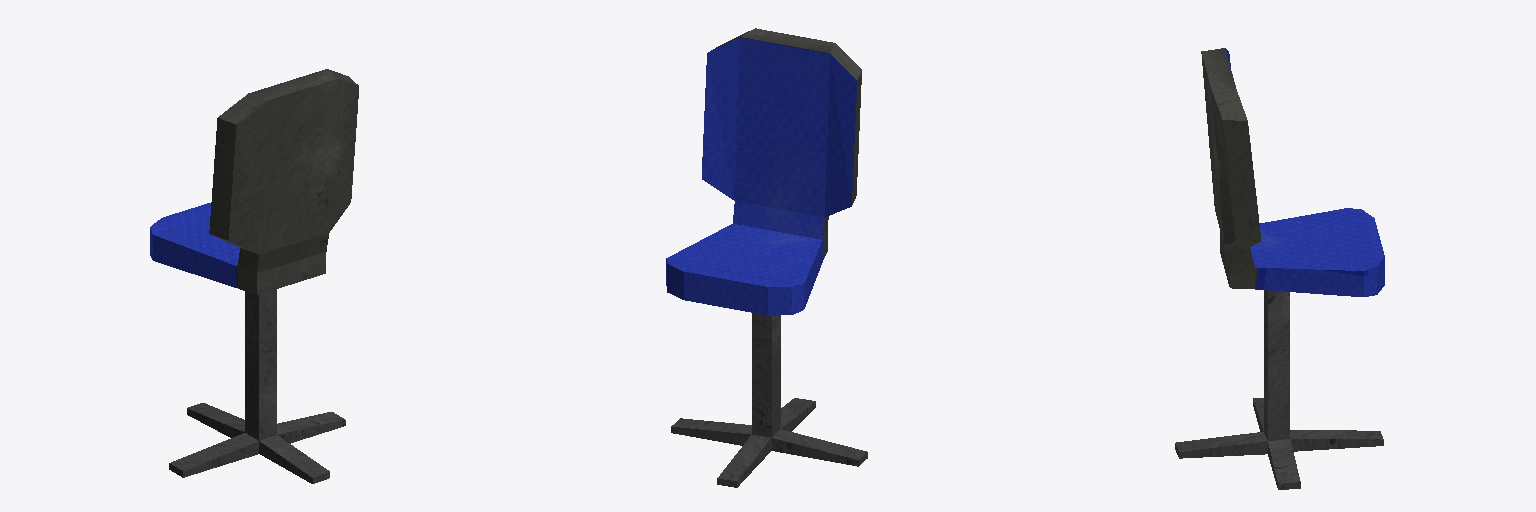
3 views of the same model, side by side, from view 1: azimuth 30°, elevation 25°; view 2: azimuth 150°, elevation 25°; view 3: azimuth 270°, elevation 25° (orthographic).
Visible parts, largest first — view 1: silla:polySurface9; view 2: silla:polySurface9; view 3: silla:polySurface9.
Boxes of the visible parts, x1,y1,x2,y2 form: silla:polySurface9: [150, 69, 358, 483]; silla:polySurface9: [666, 28, 867, 487]; silla:polySurface9: [1175, 48, 1384, 489].
Bounding box in the file's own units: 2.63 × 5.42 × 2.7.
Materials: 1 (1 with a texture image).